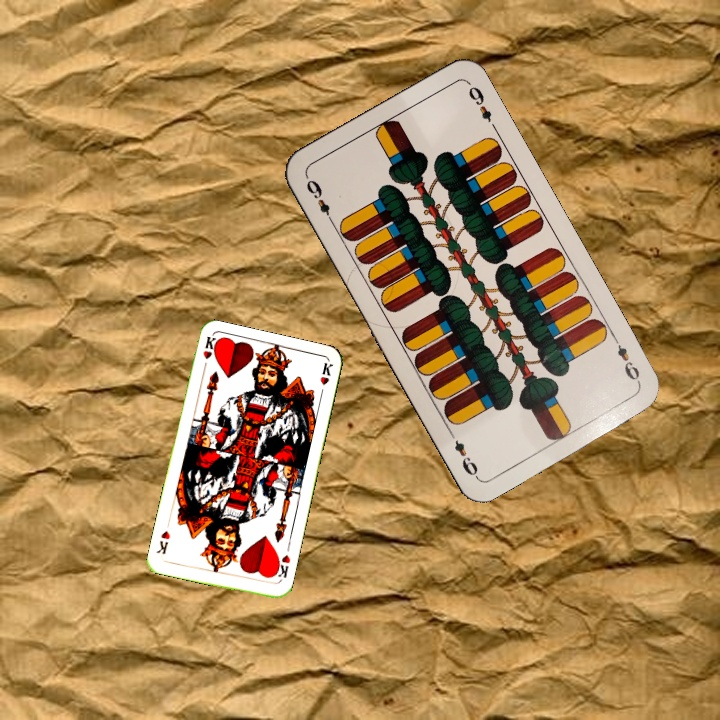E9: (609, 332, 644, 387), (302, 175, 337, 227)
HK: (199, 333, 219, 374), (270, 550, 293, 585)
